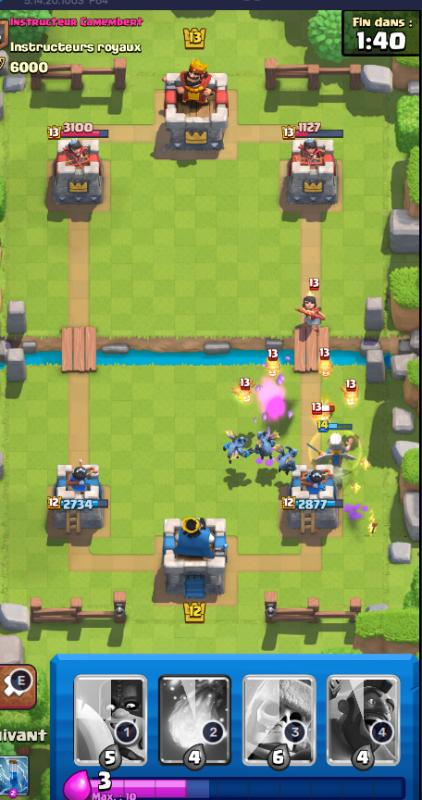gargouille: (221, 430, 252, 466), (254, 424, 275, 464), (275, 443, 295, 473)
